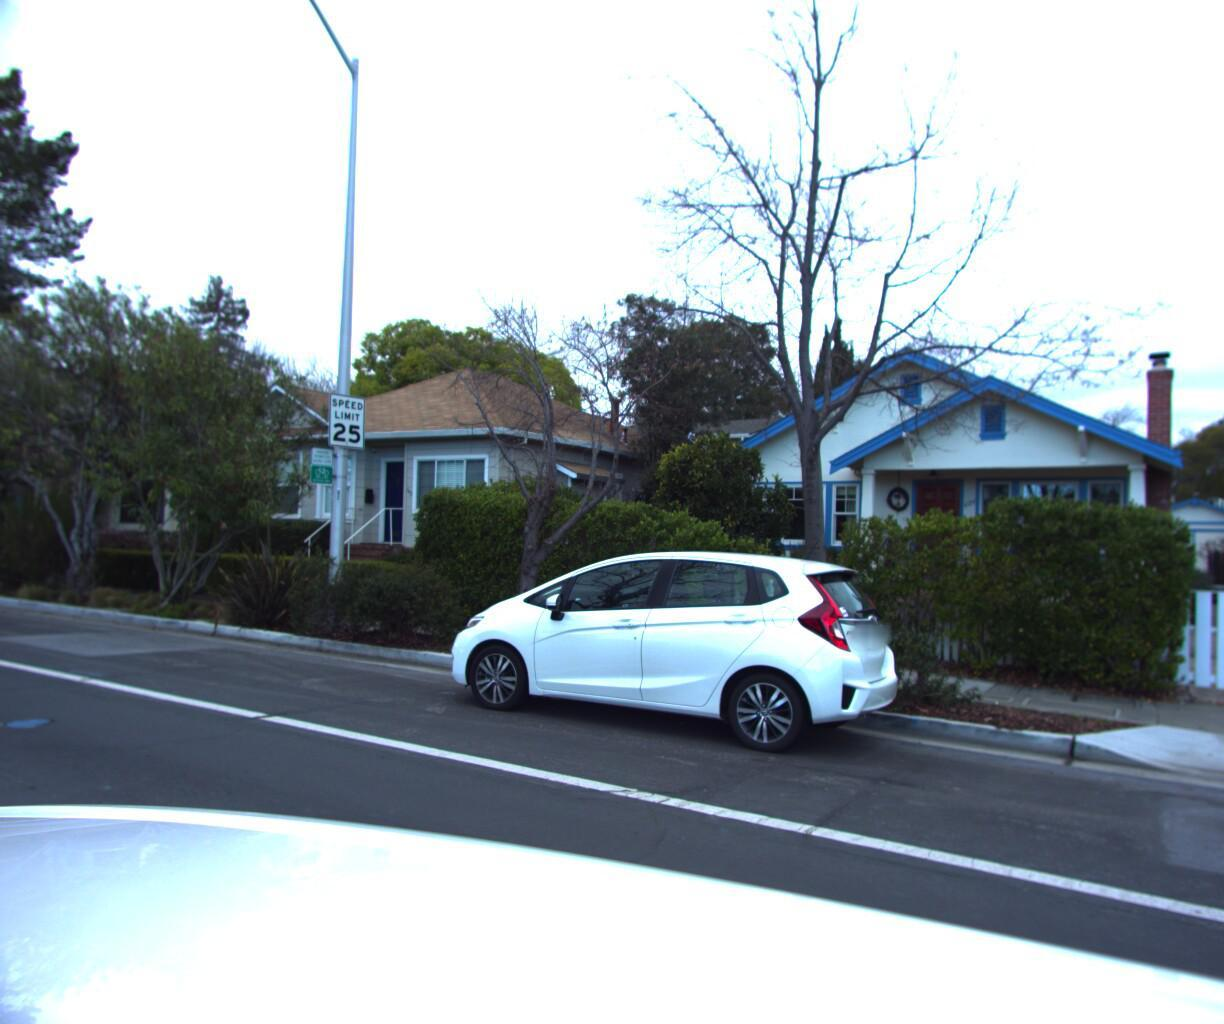car: (412, 524, 916, 760)
